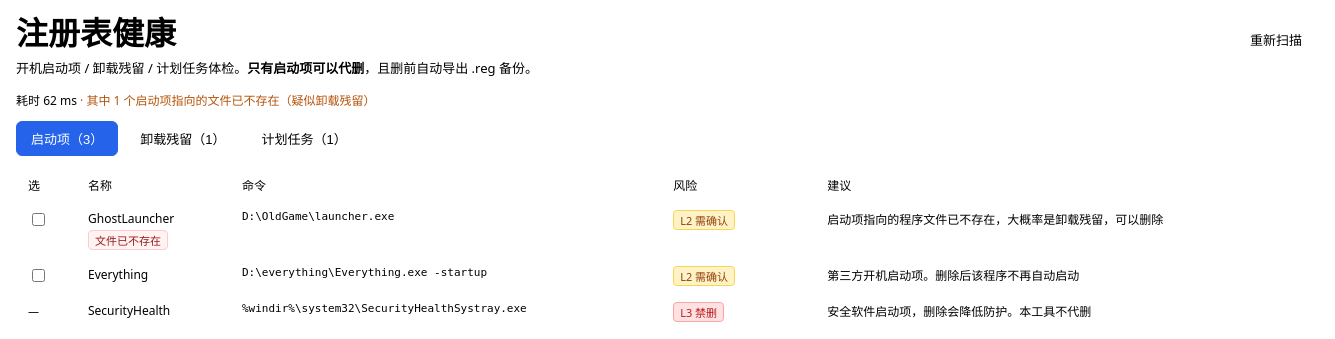
Test: 注册表健康中心 › 卸载残留 tab 只读：没有勾选框也没有删除按钮
Expected: the button "启动项（3）" is shown, [16, 121, 118, 156]
Click the button "卸载残留（1）": click(183, 138) [126, 121, 240, 156]
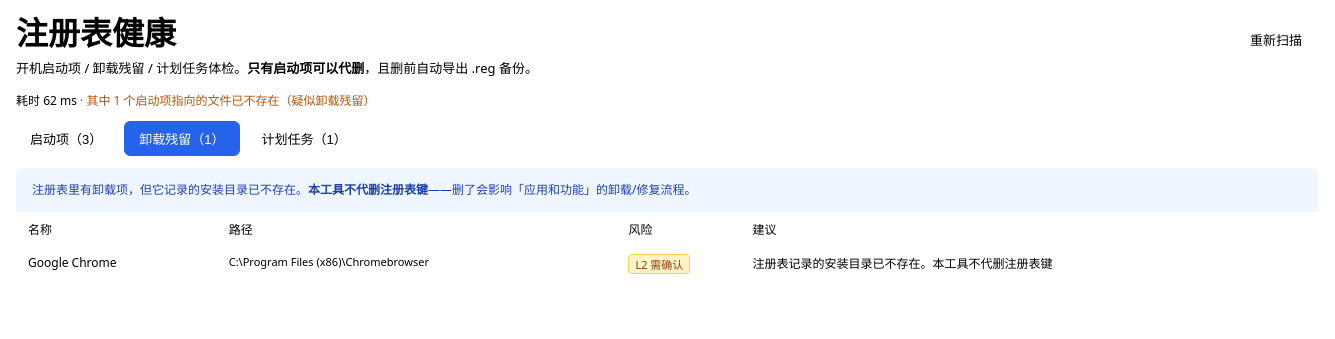
Expected: the text "Google Chrome" is shown, [16, 246, 217, 282]
Expected: no checkboxes are shown
Expected: the cell "删除" is gone
